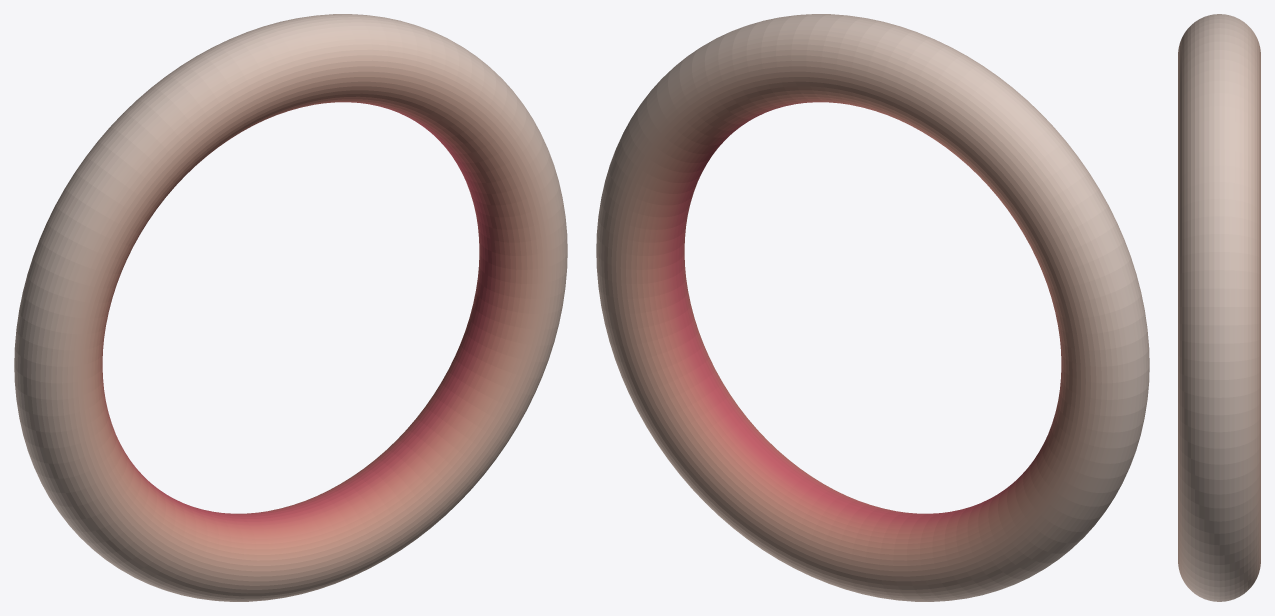
The picture shows the model from 3 angles, left to right: view 1: azimuth 30°, elevation 25°; view 2: azimuth 150°, elevation 25°; view 3: azimuth 270°, elevation 25°; orthographic projection. The views are drawn at different scales.
Visible parts, largest first — view 1: world; view 2: world; view 3: world.
Part boxes in pixels (x1,y1,x2,y2): world: (14,14,567,601); world: (596,14,1149,601); world: (1178,14,1260,601).
Size of the model in its own units: 34.93 by 34.93 by 4.92.
